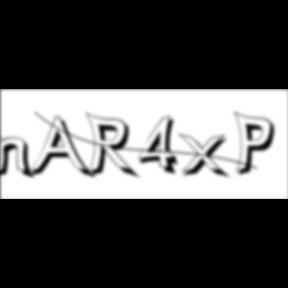4: (138, 115, 184, 179)
A: (28, 116, 98, 182)
P: (234, 110, 282, 180)
R: (86, 112, 142, 182)
n: (0, 132, 38, 181)
x: (179, 132, 234, 181)
